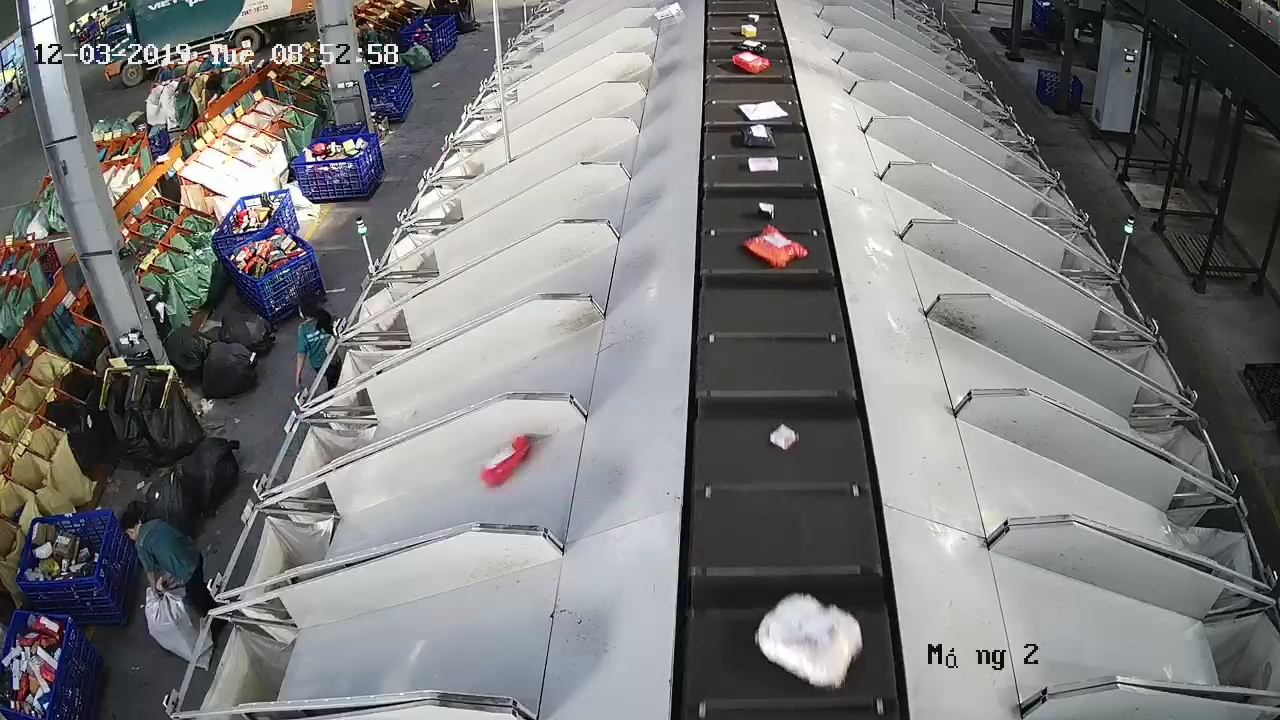parcel: (754, 591, 866, 694), (740, 223, 810, 270), (479, 433, 533, 488), (737, 99, 790, 122), (768, 422, 801, 452), (740, 123, 778, 149), (747, 155, 781, 174), (757, 201, 777, 221)
